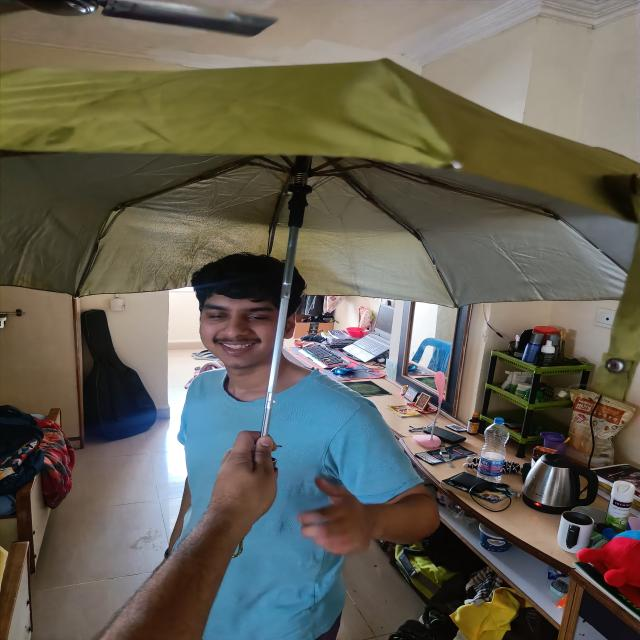umbrella: (0, 60, 640, 433)
